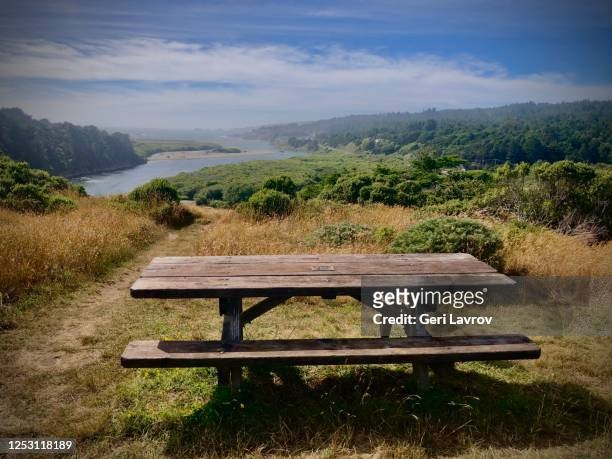obstacle: (121, 253, 540, 387)
